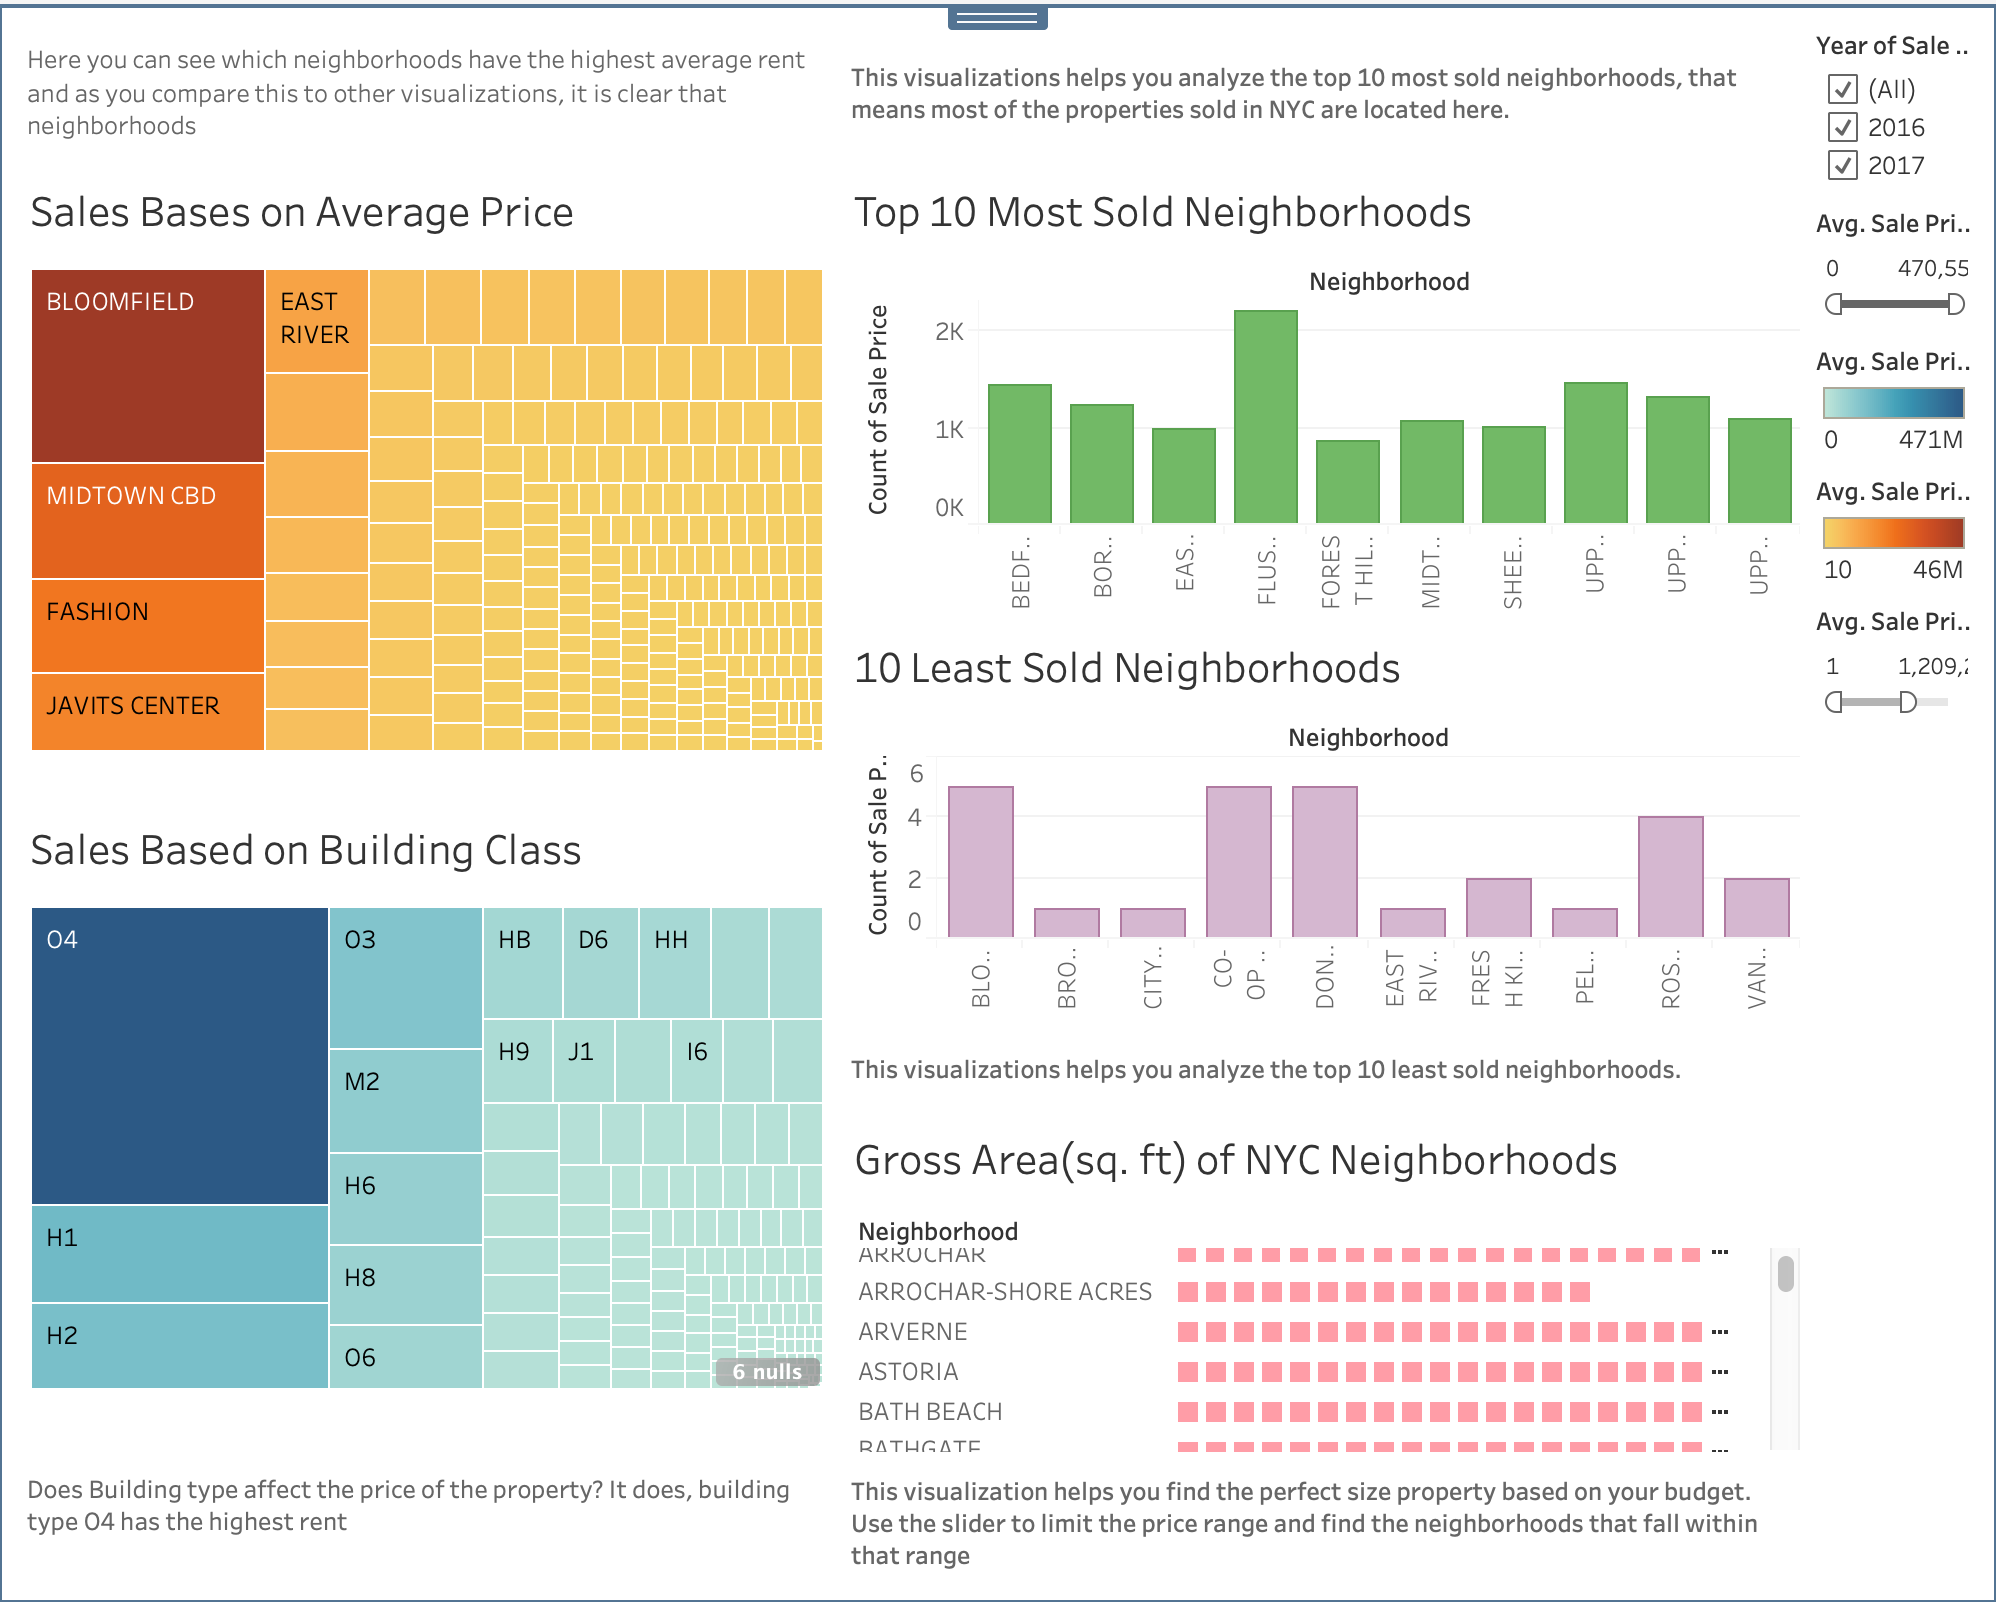

What the dashboard file says about the page in this screenshot:
{"tool":"tableau","page":{"name":"Dashboard 1","canvas":[1000,800],"ordinal":0},"visuals":[{"type":"worksheet","box":[0,0,1000,800]},{"type":"worksheet","param":"horz","box":[8,8,984,784]},{"type":"worksheet","box":[8,8,897,784]},{"type":"worksheet","box":[8,8,412,73]},{"type":"worksheet","box":[420,8,485,73]},{"type":"worksheet","param":"vert","box":[905,8,87,784]},{"type":"worksheet","title":"10 Least Sold Neighborhoods","mark":"Automatic","rows":["SALE PRICE"],"cols":["NEIGHBORHOOD"],"param":"[federated.0josalv1nbn8w511pyedm0hlubg2].[yr:SALE DATE:ok]","box":[905,8,87,89]},{"type":"worksheet","title":"Sales Bases on Average Price","mark":"Automatic","box":[8,81,412,319]},{"type":"worksheet","title":"Top 10 Most Sold Neighborhoods","mark":"Automatic","rows":["SALE PRICE"],"cols":["NEIGHBORHOOD"],"box":[420,81,485,228]},{"type":"worksheet","title":"Sales Based on Building Class","mark":"Automatic","param":"[federated.0josalv1nbn8w511pyedm0hlubg2].[avg:SALE PRICE:qk]","box":[905,97,87,69]},{"type":"worksheet","title":"Sales Based on Building Class","mark":"Automatic","param":"[federated.0josalv1nbn8w511pyedm0hlubg2].[avg:SALE PRICE:qk]","box":[905,166,87,65]},{"type":"worksheet","title":"Sales Bases on Average Price","mark":"Automatic","param":"[federated.0josalv1nbn8w511pyedm0hlubg2].[avg:SALE PRICE:qk]","box":[905,231,87,65]},{"type":"worksheet","title":"Gross Area(sq. ft) of NYC Neighborhoods","mark":"Automatic","rows":["NEIGHBORHOOD"],"param":"[federated.0josalv1nbn8w511pyedm0hlubg2].[avg:SALE PRICE:qk]","box":[905,296,87,69]},{"type":"worksheet","title":"10 Least Sold Neighborhoods","mark":"Automatic","rows":["SALE PRICE"],"cols":["NEIGHBORHOOD"],"box":[420,309,485,200]},{"type":"worksheet","title":"Sales Based on Building Class","mark":"Automatic","box":[8,400,412,309]},{"type":"worksheet","box":[420,509,485,46]},{"type":"worksheet","title":"Gross Area(sq. ft) of NYC Neighborhoods","mark":"Automatic","rows":["NEIGHBORHOOD"],"box":[420,555,485,173]},{"type":"worksheet","box":[8,709,412,83]},{"type":"worksheet","box":[420,728,485,64]}]}

Visuals, with their boxes in screenshot pixels (x1, y1, x2, y2), scaled from the page's 1000x800 canvas onto the 1996x1602 screenshot:
worksheet: rect(0, 0, 1995, 1601)
worksheet: rect(16, 16, 1980, 1586)
worksheet: rect(16, 16, 1806, 1586)
worksheet: rect(16, 16, 838, 162)
worksheet: rect(838, 16, 1806, 162)
worksheet: rect(1806, 16, 1980, 1586)
"10 Least Sold Neighborhoods" worksheet: rect(1806, 16, 1980, 194)
"Sales Bases on Average Price" worksheet: rect(16, 162, 838, 801)
"Top 10 Most Sold Neighborhoods" worksheet: rect(838, 162, 1806, 619)
"Sales Based on Building Class" worksheet: rect(1806, 194, 1980, 332)
"Sales Based on Building Class" worksheet: rect(1806, 332, 1980, 463)
"Sales Bases on Average Price" worksheet: rect(1806, 463, 1980, 593)
"Gross Area(sq. ft) of NYC Neighborhoods" worksheet: rect(1806, 593, 1980, 731)
"10 Least Sold Neighborhoods" worksheet: rect(838, 619, 1806, 1019)
"Sales Based on Building Class" worksheet: rect(16, 801, 838, 1420)
worksheet: rect(838, 1019, 1806, 1111)
"Gross Area(sq. ft) of NYC Neighborhoods" worksheet: rect(838, 1111, 1806, 1458)
worksheet: rect(16, 1420, 838, 1586)
worksheet: rect(838, 1458, 1806, 1586)
